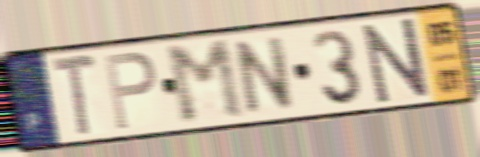3: (311, 28, 365, 107)
M: (161, 36, 250, 128)
N: (359, 15, 432, 107), (233, 33, 297, 119)
P: (101, 49, 159, 134)
T: (49, 50, 100, 141)
